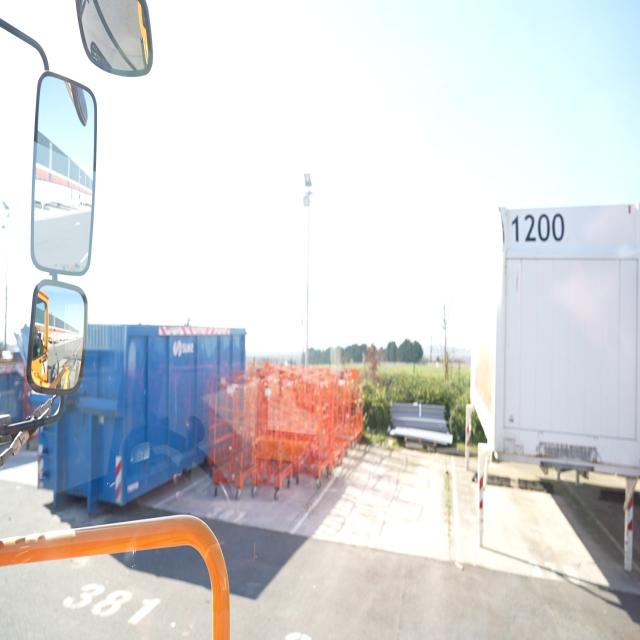Code: (506, 202, 568, 248)
